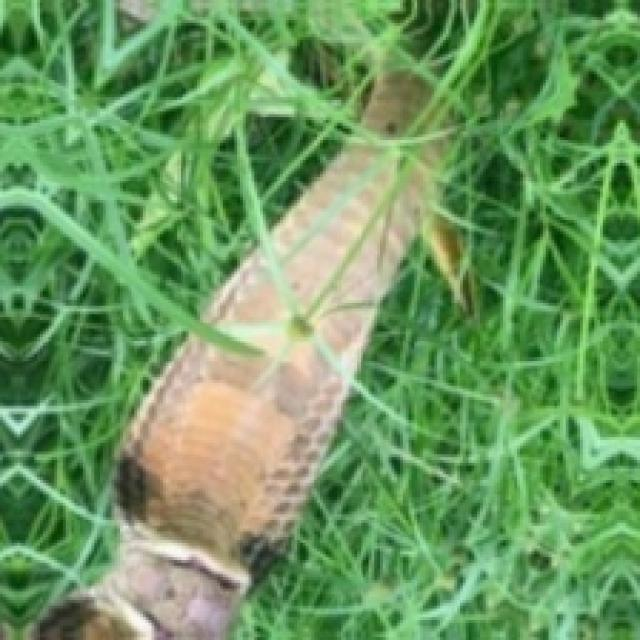king cobra: (31, 71, 443, 637)
